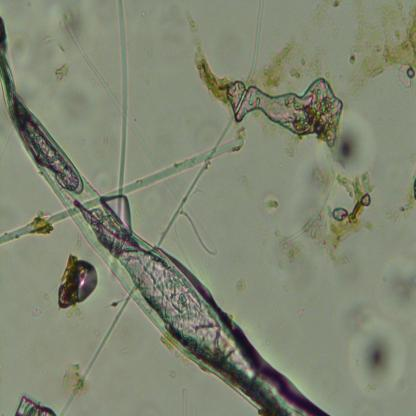Background material: (187, 18, 368, 174), (290, 119, 376, 267), (345, 0, 416, 98), (342, 316, 410, 395), (261, 229, 317, 295), (381, 252, 416, 306), (389, 163, 416, 226), (38, 33, 72, 83), (262, 193, 280, 215), (233, 276, 248, 296)
Cotton: (0, 20, 325, 415)
Diatom: (14, 392, 58, 415)
Glass filter fibre: (63, 21, 216, 260), (105, 138, 243, 200), (58, 297, 130, 414), (211, 1, 265, 153), (114, 0, 129, 210), (0, 208, 71, 246), (182, 388, 189, 416)
